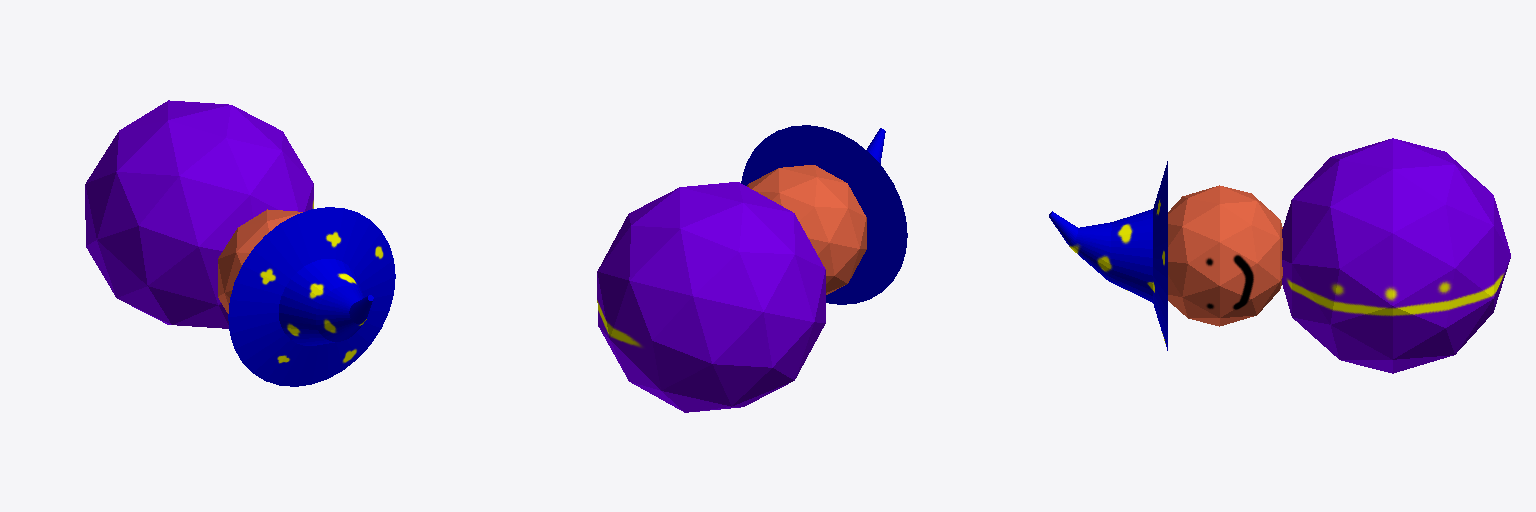
3 renders of one model, left to right at view 1: azimuth 30°, elevation 25°; view 2: azimuth 150°, elevation 25°; view 3: azimuth 270°, elevation 25°, orthographic.
Visible parts, largest first — view 1: Icosphere; view 2: Icosphere; view 3: Icosphere.
Part boxes in pixels (x1,y1,x2,y2): Icosphere: (85, 100, 395, 386); Icosphere: (597, 125, 907, 412); Icosphere: (1049, 138, 1510, 373).
Bounding box in the file's own units: 2 × 1.9 × 3.9.
3 materials, 3 textured.